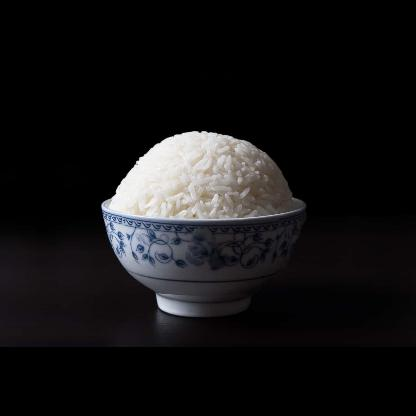white rice: (108, 130, 294, 218)
